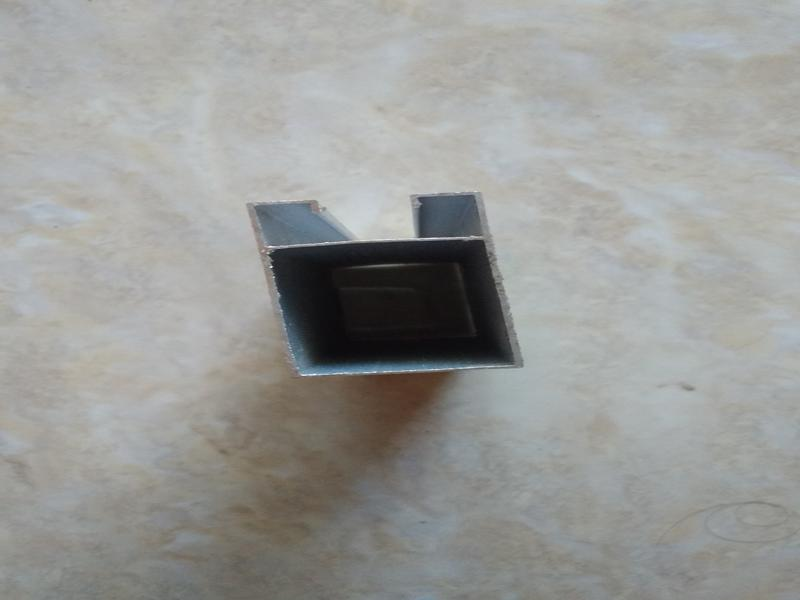Aluminium_1: (232, 177, 559, 403)
